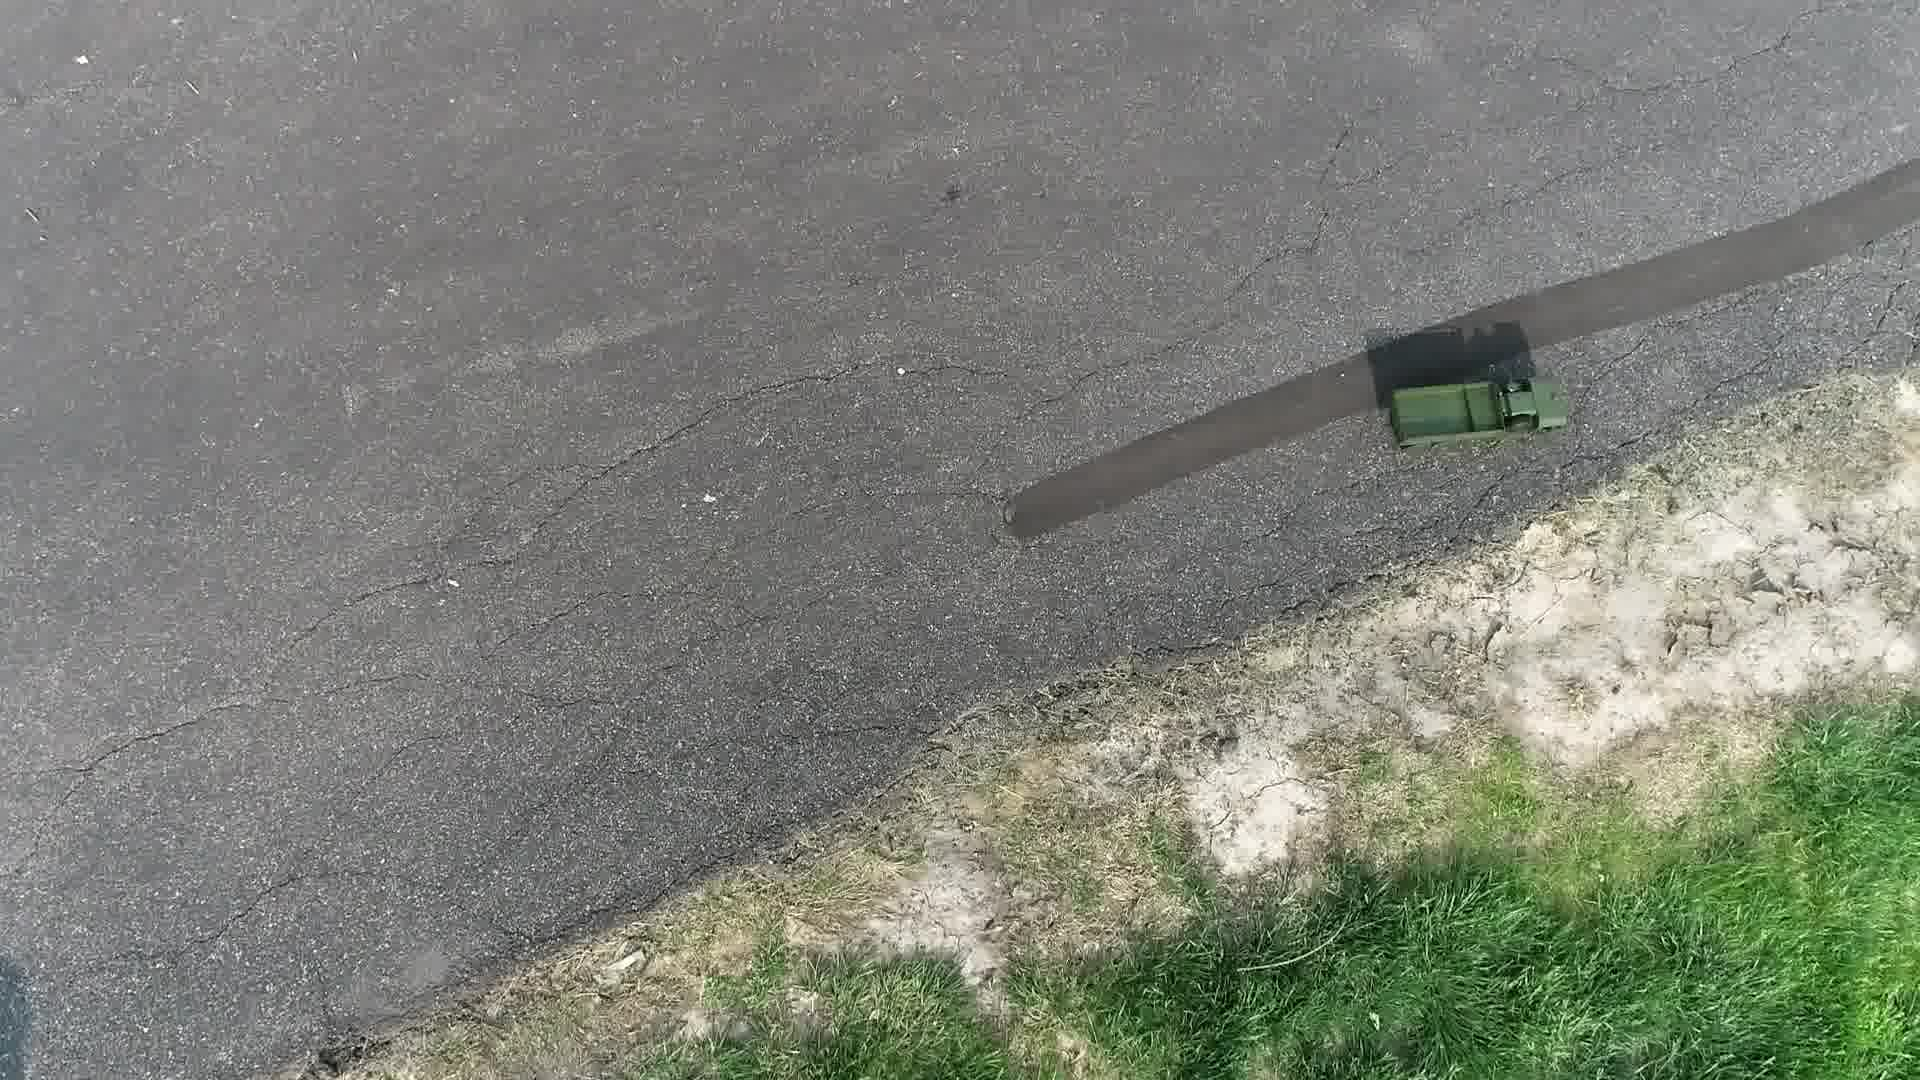transporter9: (1377, 361, 1577, 460)
